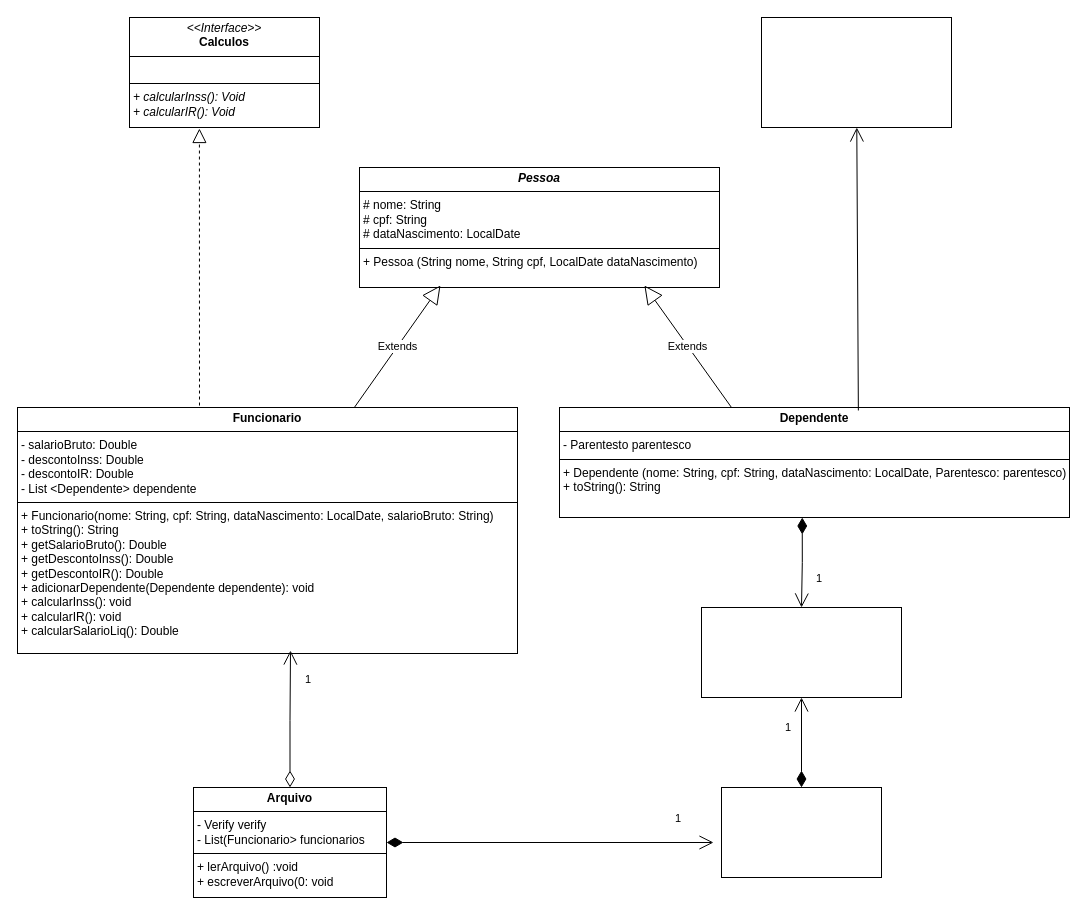
The diagram is 1087 pixels wide and 915 high, and some of its shapes have lost their labels. Here are the shapes that lost their labels. From the top down, the box of each, then its label:
(760, 16, 952, 128): << Enum >> Parentesco + FILHO: String + SOBRINHO: String + OUTROS: String
(700, 606, 902, 698): DependenteException + DependenteException (message)
(720, 786, 882, 878): Verify - List<Sting>cpflist +validCpf() void + valiAge() void
